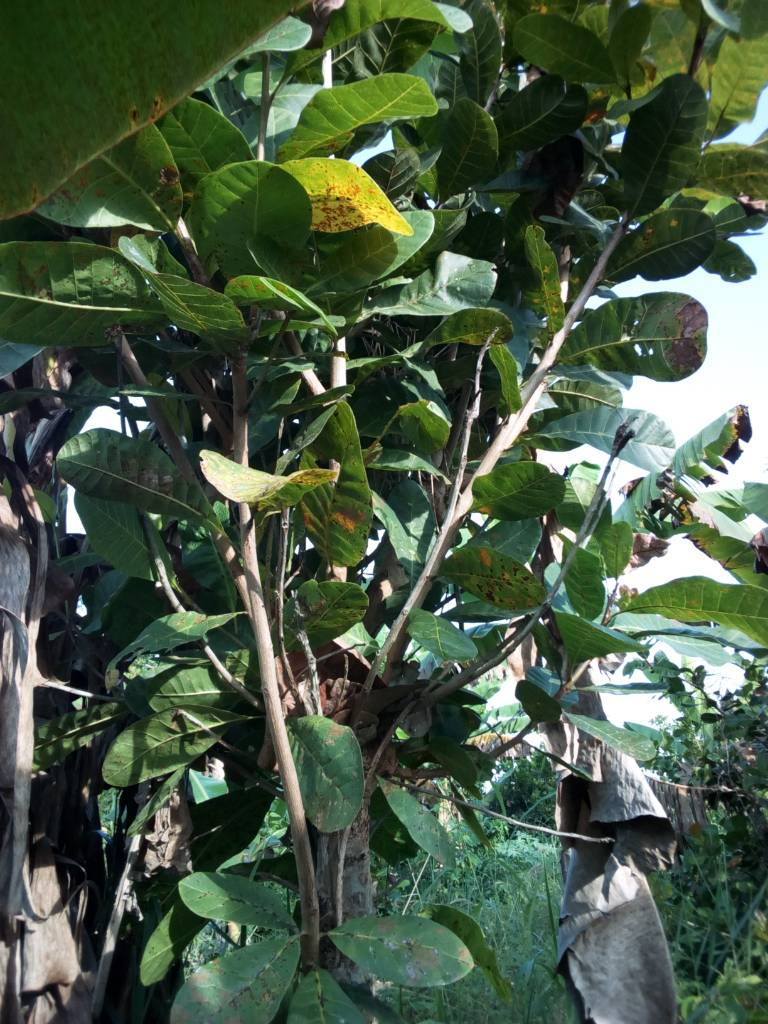Anthracnose: (1, 1, 186, 241), (1, 238, 165, 349), (58, 432, 211, 530), (554, 294, 715, 383), (157, 930, 302, 1024), (302, 402, 380, 558), (321, 911, 472, 988), (279, 713, 368, 838), (193, 444, 333, 514), (291, 158, 411, 239), (435, 544, 544, 621), (279, 580, 377, 641), (694, 144, 766, 200), (424, 307, 516, 347)
